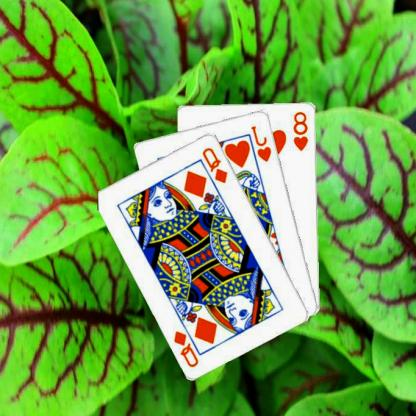8H: (292, 108, 312, 152)
JH: (250, 122, 275, 163)
QD: (201, 144, 231, 184), (173, 328, 202, 368)
